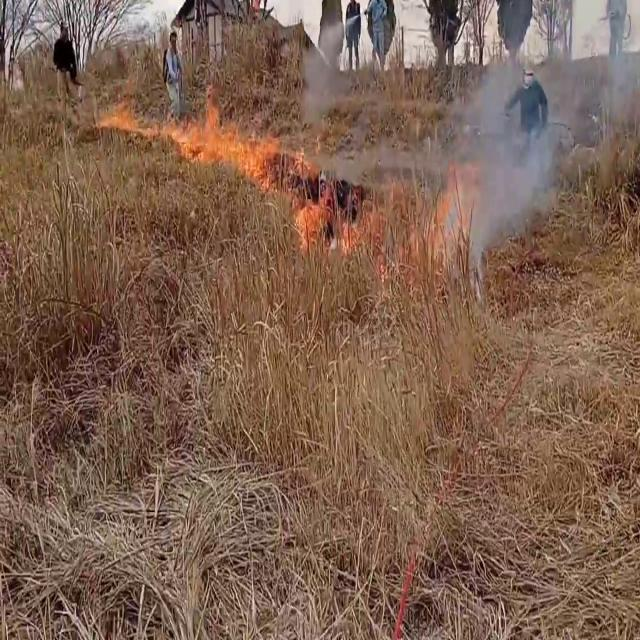Fire: (162, 93, 276, 191), (296, 169, 336, 254), (104, 104, 163, 144)
Smoke: (440, 4, 640, 260), (438, 30, 580, 263)
